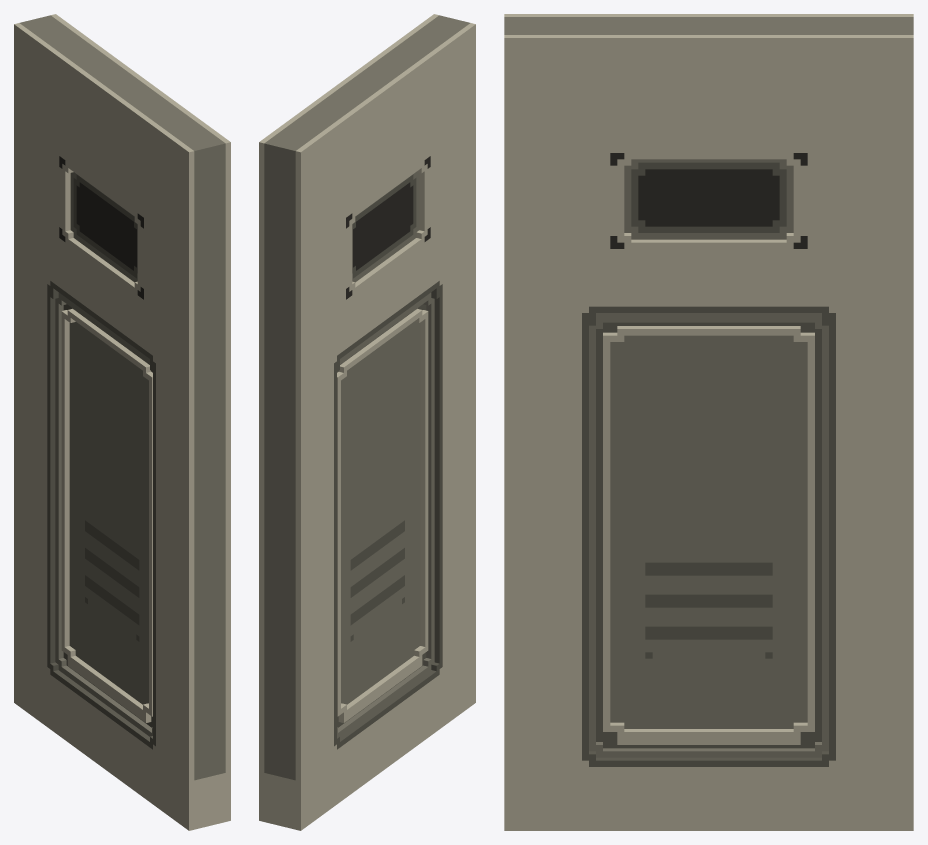
The model's file is factory4.3-15.obj.
3 renders of one model, left to right at view 1: azimuth 30°, elevation 25°; view 2: azimuth 150°, elevation 25°; view 3: azimuth 270°, elevation 25°, orthographic. The views are drawn at different scales.
Bounding box in the file's own units: 0.8 × 12.4 × 5.8.
1 material, 1 textured.
